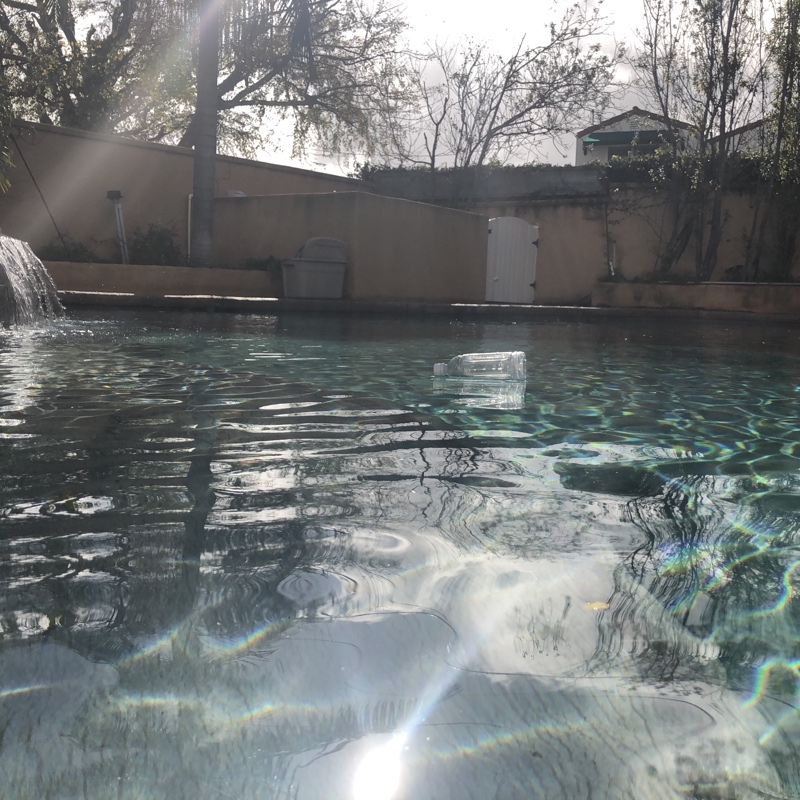Plastic Bottle: (432, 345, 531, 386)
